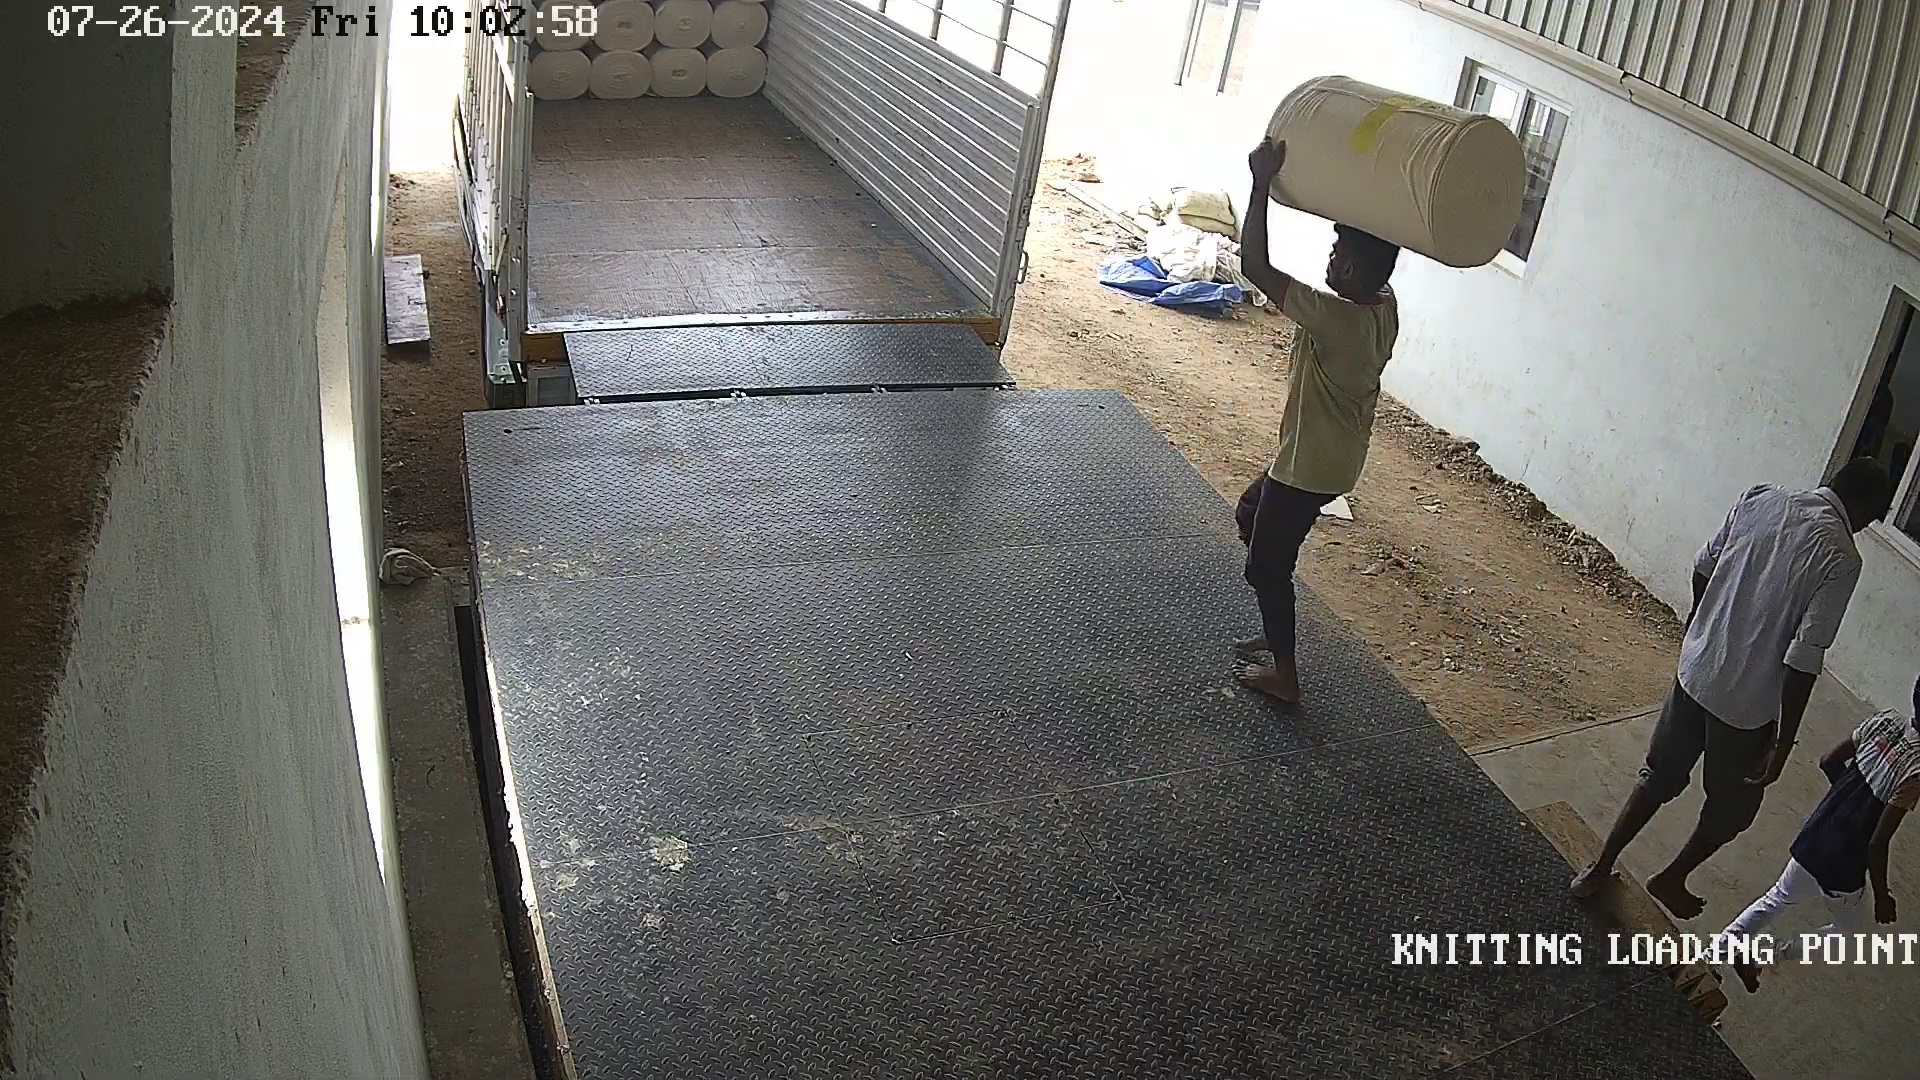bag: (1251, 54, 1542, 276)
